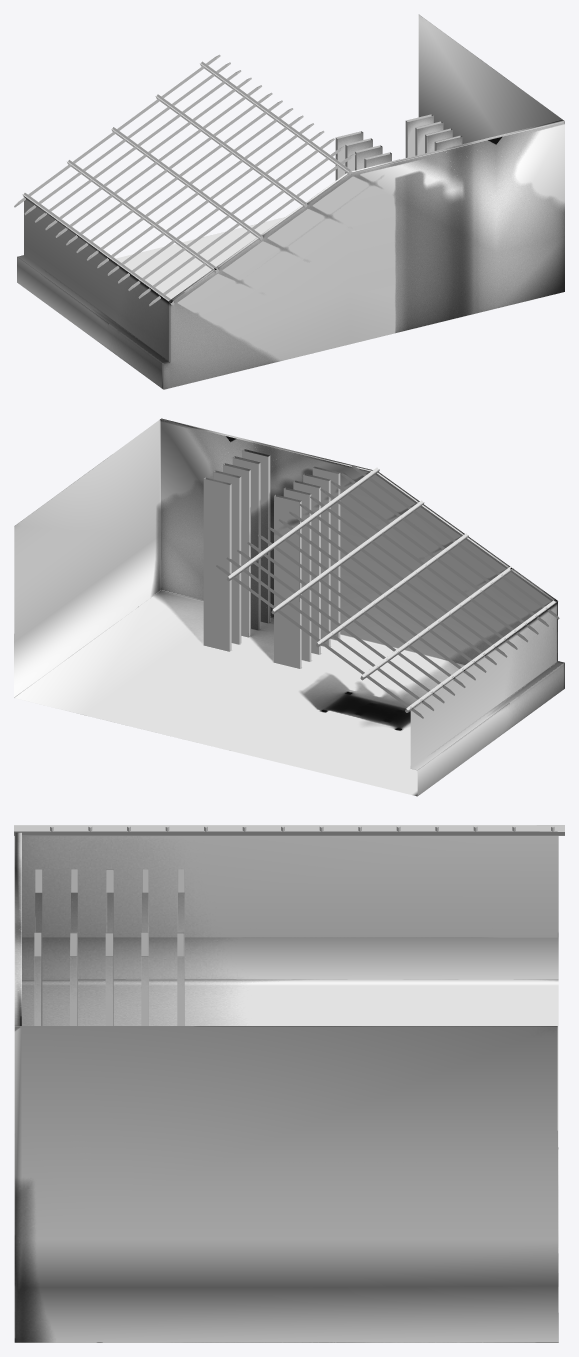
The model's file is BakedScene.glb.
3 views of the same model, one above another, from view 1: azimuth 30°, elevation 25°; view 2: azimuth 150°, elevation 25°; view 3: azimuth 270°, elevation 25° (orthographic). The views are drawn at different scales.
Visible parts, largest first — view 1: Cube.015, Cube.017, Cube.022; view 2: Cube.015, Cube.017, Cube.022; view 3: Cube.015, Cube.022.
Boxes of the visible parts, x1=… form: Cube.015: x1=17, y1=14, x2=564, y2=389; Cube.017: x1=14, y1=54, x2=355, y2=306; Cube.022: x1=22, y1=61, x2=351, y2=305; Cube.015: x1=14, y1=418, x2=564, y2=796; Cube.017: x1=216, y1=465, x2=559, y2=718; Cube.022: x1=226, y1=467, x2=558, y2=712; Cube.015: x1=14, y1=832, x2=558, y2=1342; Cube.022: x1=14, y1=825, x2=564, y2=835.
Bounding box in the file's own units: 48.42 × 20.6 × 30.66.
3 materials, 1 textured.
